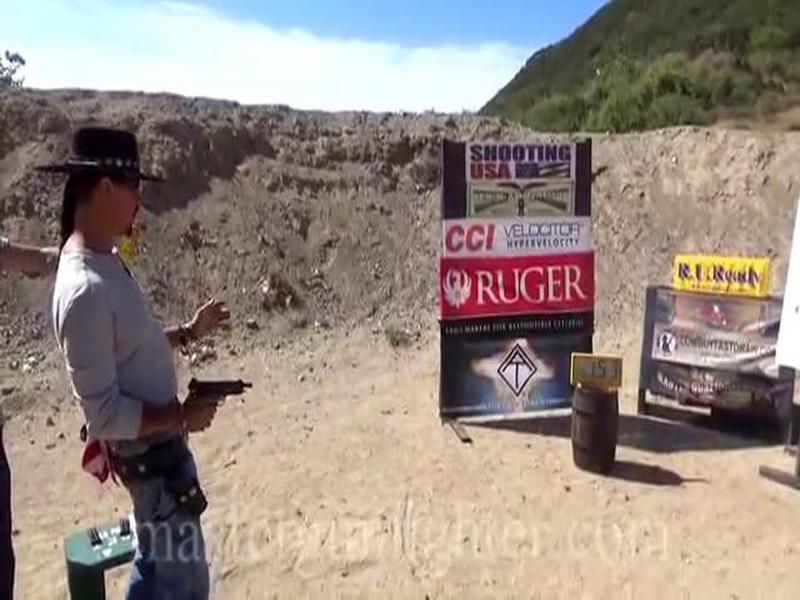Pistola: (175, 366, 266, 440)
